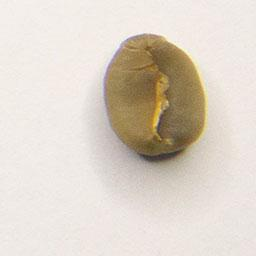premium: (99, 30, 210, 160)
